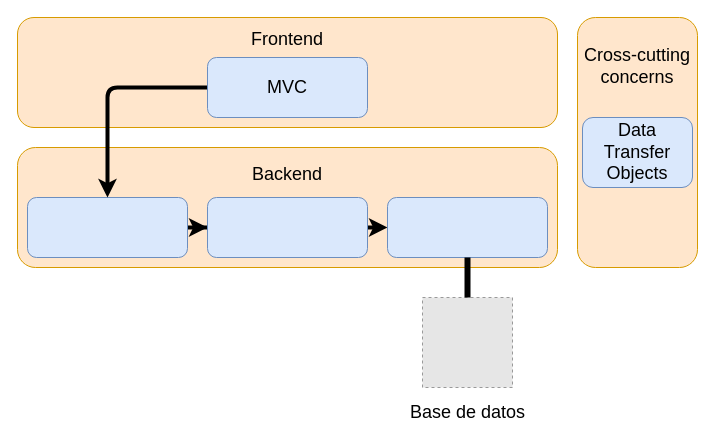
Some shapes in this 715 by 445 pixel diagram are drawn without their labels. Grey dashed boxes stand in for pictures. The shapes that lost their labels are listed below. From the top down, each one's centre as x and y in pixels, then its label:
(x=107, y=227): Servicios Internos
(x=287, y=227): Dominio
(x=467, y=227): Persistencia
